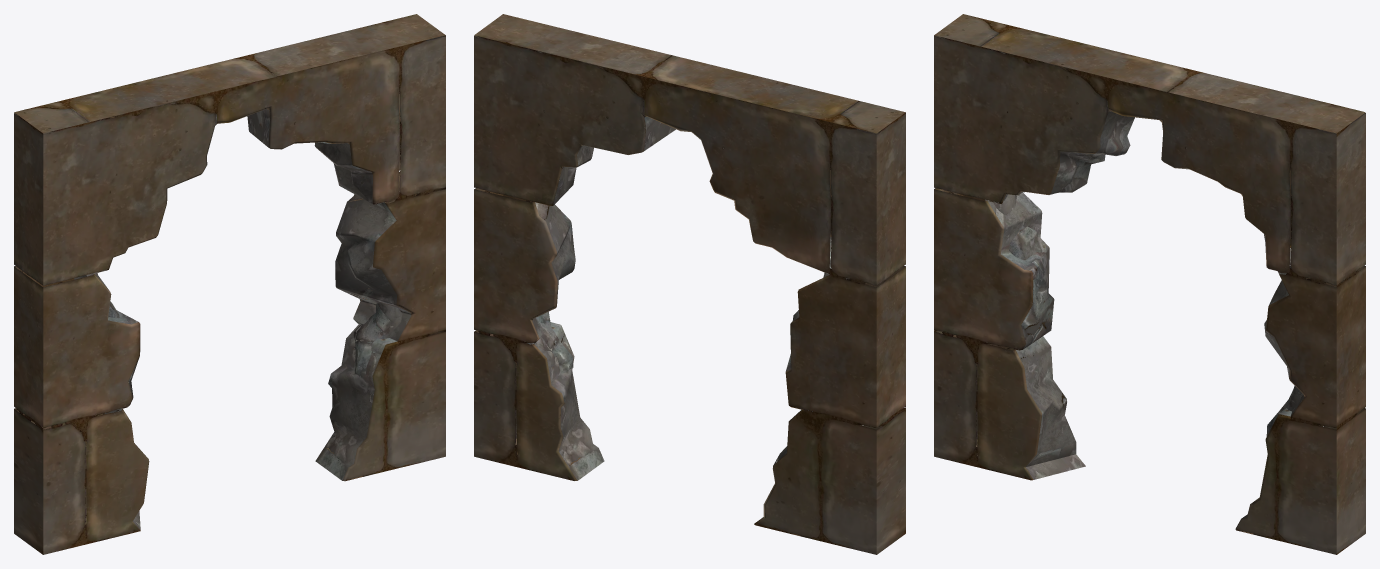
The picture shows the model from 3 angles, left to right: view 1: azimuth 30°, elevation 25°; view 2: azimuth 150°, elevation 25°; view 3: azimuth 330°, elevation 25°; orthographic projection.
Parts seen in each view (by area): view 1: SM_Vault_4x4_Dmg_Wall_01_V4_LOD0; view 2: SM_Vault_4x4_Dmg_Wall_01_V4_LOD0; view 3: SM_Vault_4x4_Dmg_Wall_01_V4_LOD0.
Part boxes in pixels (bbox=[...]): SM_Vault_4x4_Dmg_Wall_01_V4_LOD0: bbox=[14, 14, 445, 554]; SM_Vault_4x4_Dmg_Wall_01_V4_LOD0: bbox=[474, 14, 905, 554]; SM_Vault_4x4_Dmg_Wall_01_V4_LOD0: bbox=[934, 14, 1365, 554].
Bounding box in the file's own units: 4 × 4 × 0.5.
Materials: 2 (2 with a texture image).
